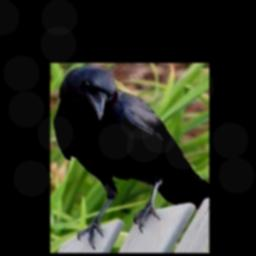Crow: (53, 66, 209, 250)
